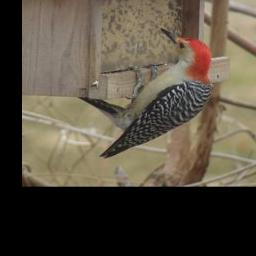Woodpecker: (86, 27, 218, 154)
